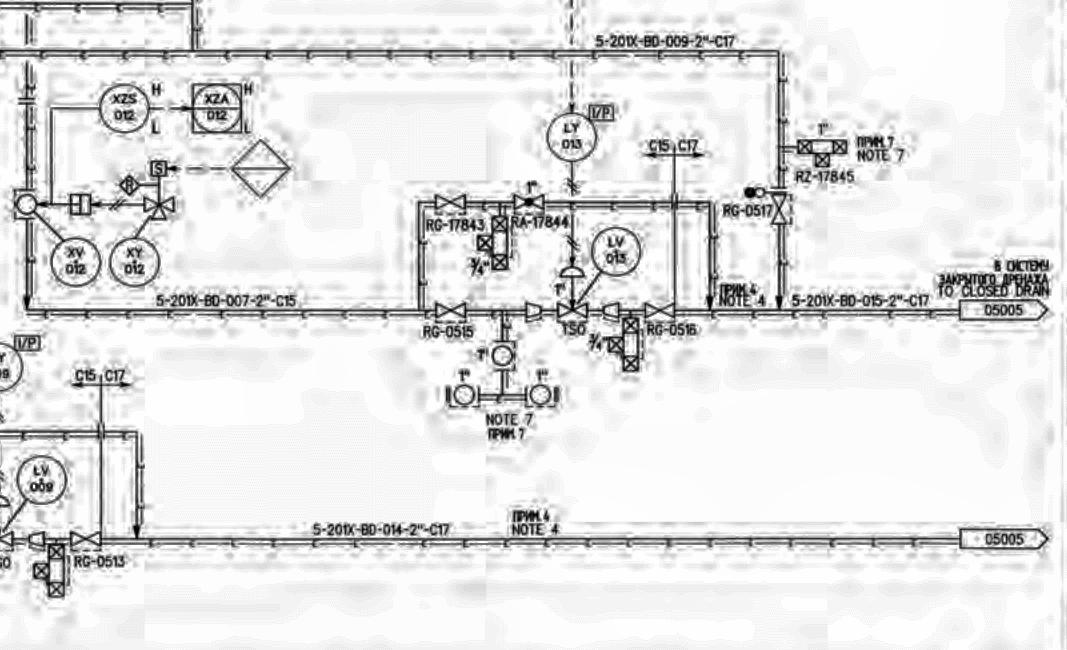2 WAY VALVE: (33, 529, 75, 604), (476, 214, 520, 273), (794, 131, 852, 171), (610, 316, 649, 375)
3 WAY GENERAL VALVE: (134, 189, 185, 226)
CONCENTRIC REDUCER: (521, 296, 548, 323), (26, 526, 51, 549), (604, 299, 627, 323)
DCS ACCESSIBLE: (186, 74, 251, 140)
DIAPHRAGM ACTUATED VALVE: (551, 264, 596, 322)
END FLANGED: (15, 93, 40, 107)
FIELD INSTRUMENT: (539, 109, 609, 163), (13, 449, 71, 507), (93, 81, 154, 136), (109, 229, 163, 290), (587, 226, 648, 279), (50, 231, 104, 289), (520, 381, 563, 414), (444, 381, 482, 412), (11, 186, 41, 221), (489, 343, 521, 373)
GATE VALVE: (764, 183, 797, 233), (426, 299, 479, 329), (639, 297, 682, 328), (431, 189, 472, 218), (66, 527, 109, 552)
GLOBE VALVE: (507, 188, 554, 211), (559, 271, 560, 272)
HARDWIRED INTERLOCK FIELD: (117, 173, 140, 197)
HARDWIRED INTERLOCK PRIMARY.: (234, 136, 296, 201)
IP CONVERTER: (582, 100, 619, 126), (10, 327, 43, 353)
SPECTACLE BLIND CLOSED: (736, 181, 794, 199)
SPEED FLOW METER: (146, 154, 170, 182)
